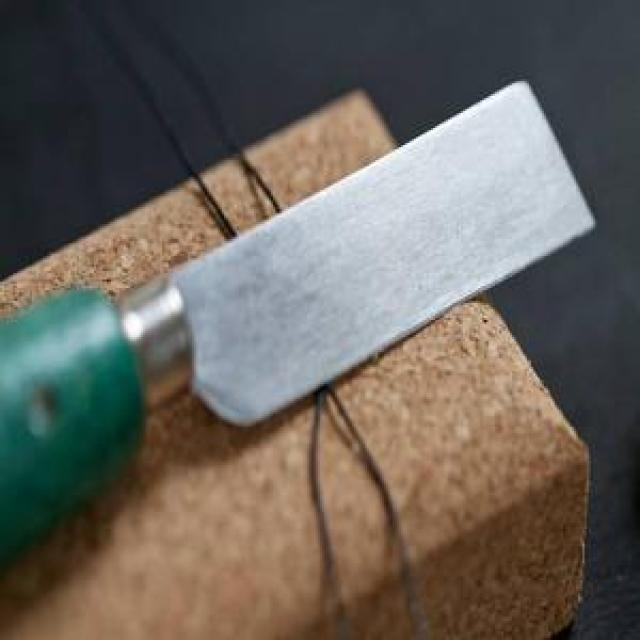knife: (0, 81, 597, 554)
